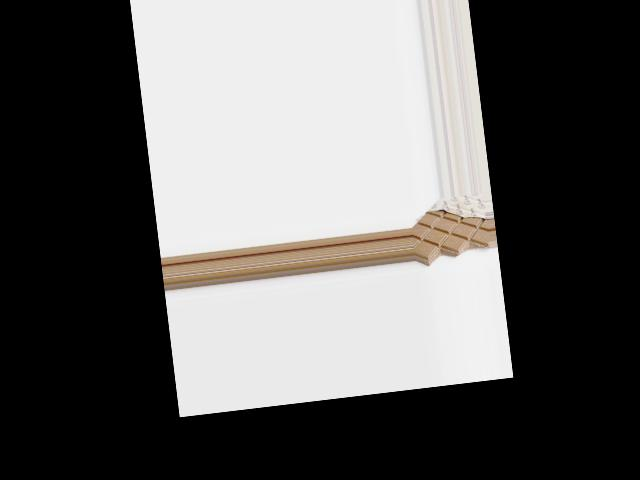chocolate: (409, 193, 491, 261)
